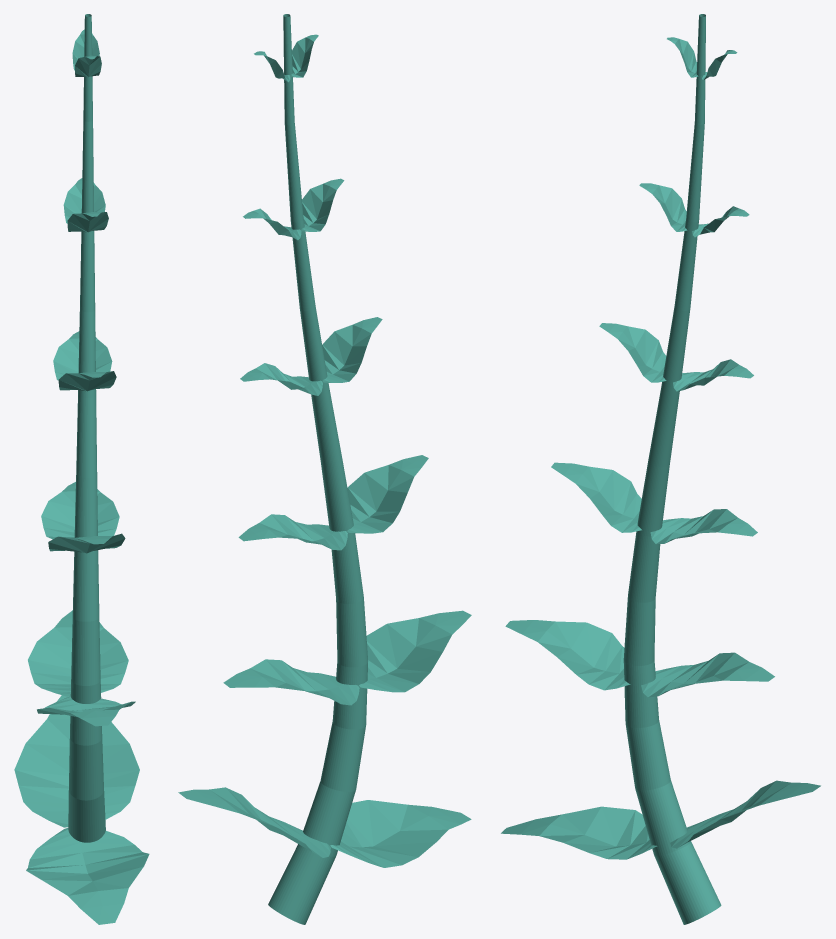
Rendered from model_herbs.glb.
The picture shows the model from 3 angles, left to right: view 1: azimuth 30°, elevation 25°; view 2: azimuth 150°, elevation 25°; view 3: azimuth 270°, elevation 25°; orthographic projection. The views are drawn at different scales.
Parts seen in each view (by area): view 1: Plane.002, Herbs, Plane; view 2: Herbs, Plane, Plane.002; view 3: Herbs, Plane, Plane.002.
Boxes of the visible parts, x1,y1,x2,y2 form: Plane.002: [14, 29, 139, 827]; Herbs: [68, 14, 105, 842]; Plane: [26, 55, 149, 924]; Herbs: [268, 14, 367, 924]; Plane: [290, 34, 471, 867]; Plane.002: [178, 51, 359, 857]; Herbs: [623, 14, 721, 924]; Plane: [501, 37, 698, 859]; Plane.002: [641, 50, 820, 848].
Bounding box in the file's own units: 0.1544 × 0.8761 × 0.2803.
